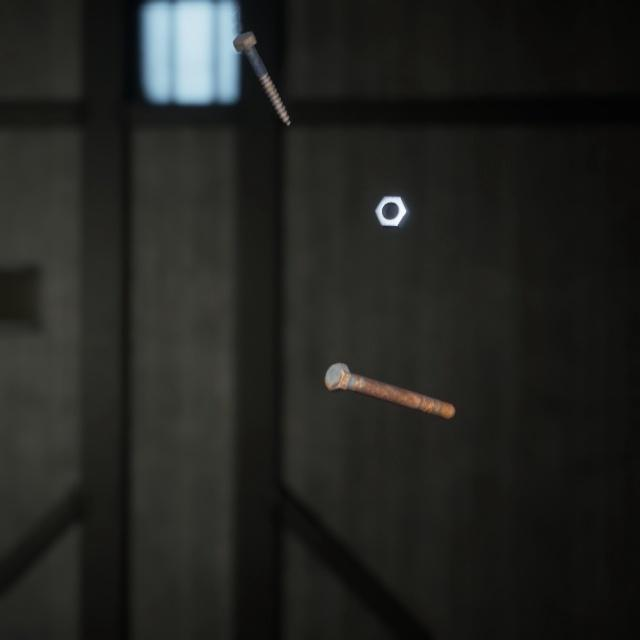bolt: (320, 339, 459, 405), (228, 15, 295, 119)
nut: (370, 177, 415, 218)
